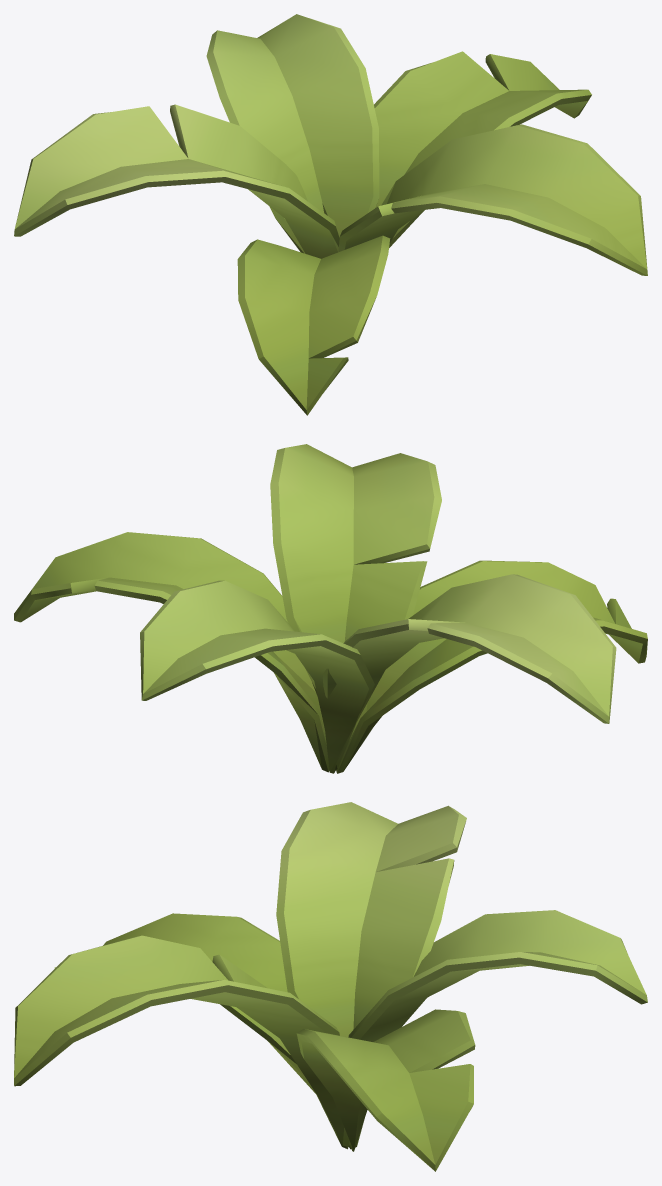
Rendered from military_plant.fbx.
The picture shows the model from 3 angles, top to bottom: view 1: azimuth 30°, elevation 25°; view 2: azimuth 150°, elevation 25°; view 3: azimuth 270°, elevation 25°; orthographic projection. The views are drawn at different scales.
Parts seen in each view (by area): view 1: military_plant; view 2: military_plant; view 3: military_plant.
Part boxes in pixels (box(x1,y1,x2,y2)): military_plant: box(14, 14, 647, 415); military_plant: box(14, 444, 647, 773); military_plant: box(14, 802, 647, 1171).
Size of the model in its own units: 1.34 by 0.4945 by 1.21.
